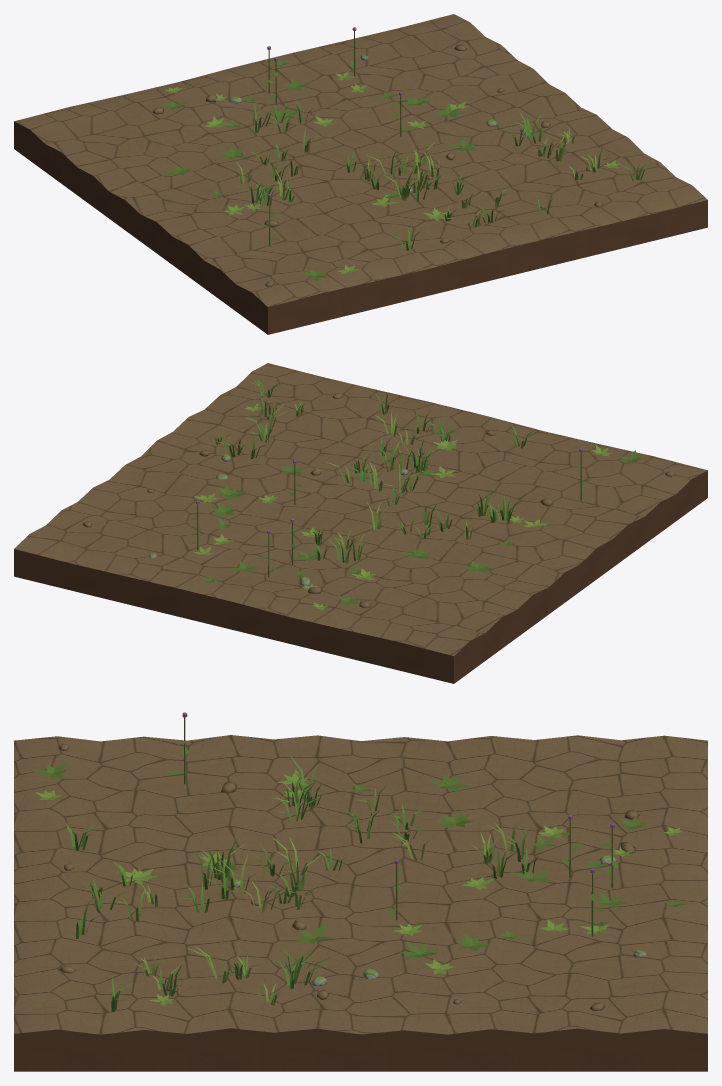
Rendered from field_fallow.glb.
3 renders of one model, top to bottom at view 1: azimuth 30°, elevation 25°; view 2: azimuth 150°, elevation 25°; view 3: azimuth 270°, elevation 25°, orthographic. The views are drawn at different scales.
Parts seen in each view (by area): view 1: field_fallow; view 2: field_fallow; view 3: field_fallow.
Boxes of the visible parts, box(x1,y1,x2,y2) form: field_fallow: box(14, 14, 707, 334); field_fallow: box(14, 363, 707, 683); field_fallow: box(14, 712, 707, 1071).
Bounding box in the file's own units: 8 × 1.39 × 8.
Materials: 8 (8 with a texture image).
